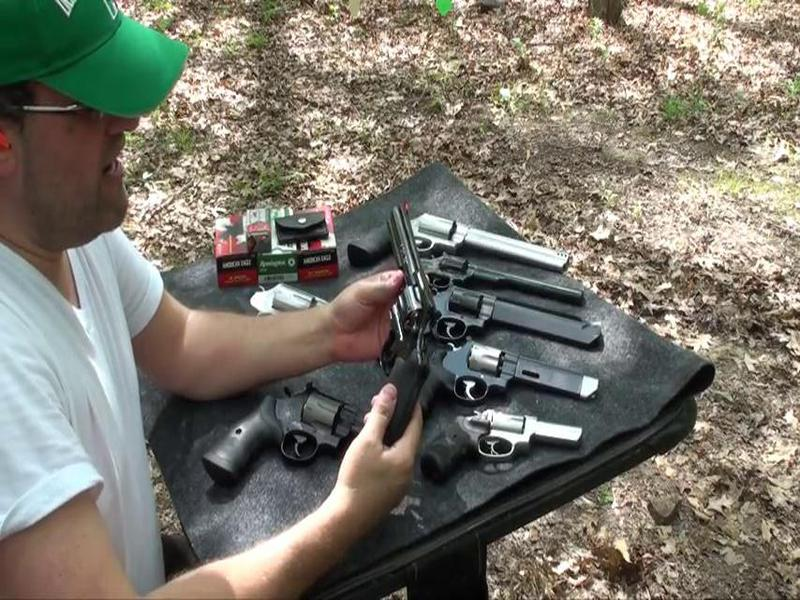Revolver: (358, 185, 455, 449)
